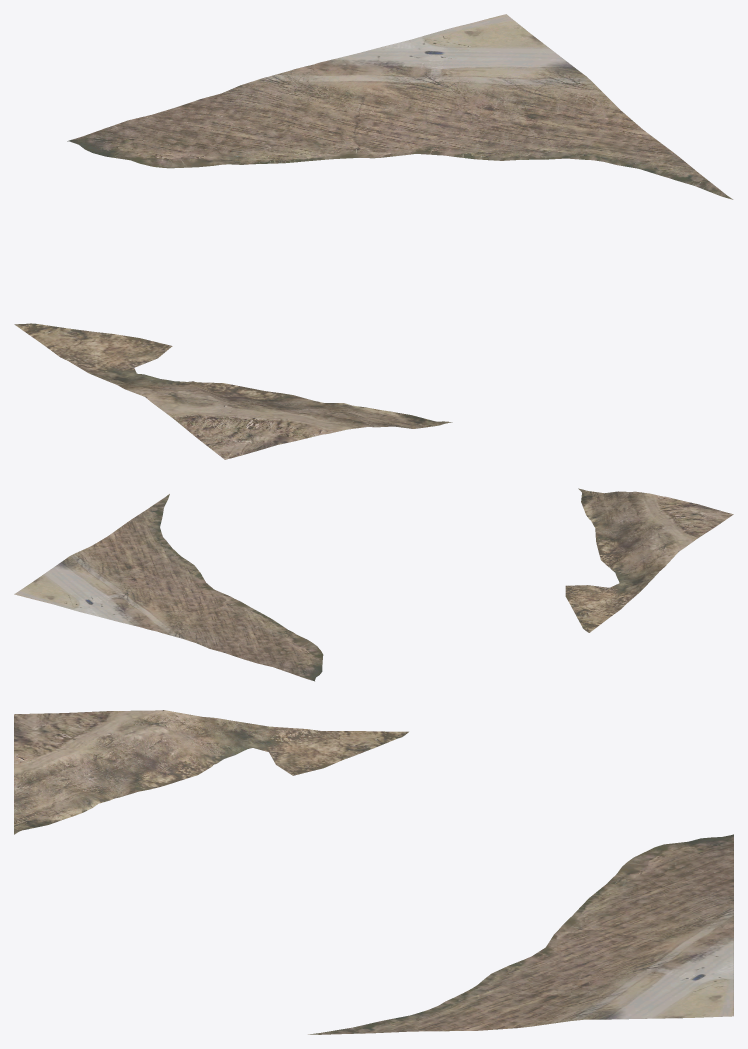
The model's file is CM_Terrain_24489230_6819794.fbx.
3 views of the same model, one above another, from view 1: azimuth 30°, elevation 25°; view 2: azimuth 150°, elevation 25°; view 3: azimuth 270°, elevation 25° (orthographic). The views are drawn at different scales.
Visible parts, largest first — view 1: CM_Terrain_24489230_6819794_LOD0; view 2: CM_Terrain_24489230_6819794_LOD0; view 3: CM_Terrain_24489230_6819794_LOD0.
Part boxes in pixels (box(x1,y1,x2,y2)): CM_Terrain_24489230_6819794_LOD0: box(14, 14, 733, 459); CM_Terrain_24489230_6819794_LOD0: box(14, 488, 733, 681); CM_Terrain_24489230_6819794_LOD0: box(14, 710, 733, 1034).
Size of what is drawn, in the model's own units: 205 by 6.82 by 205.
